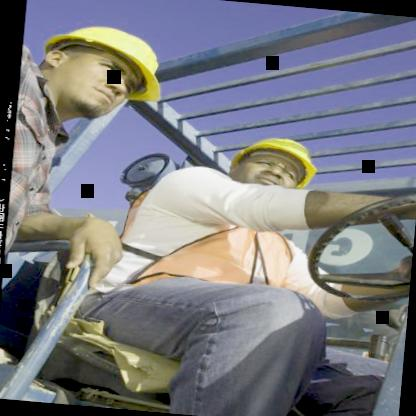helmet: (20, 4, 182, 133), (214, 122, 334, 208)
